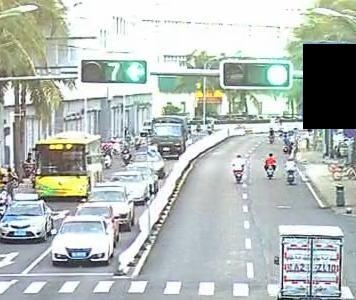green: (264, 62, 289, 87)
greenleft: (125, 61, 146, 82)
greentime: (104, 61, 123, 80)
